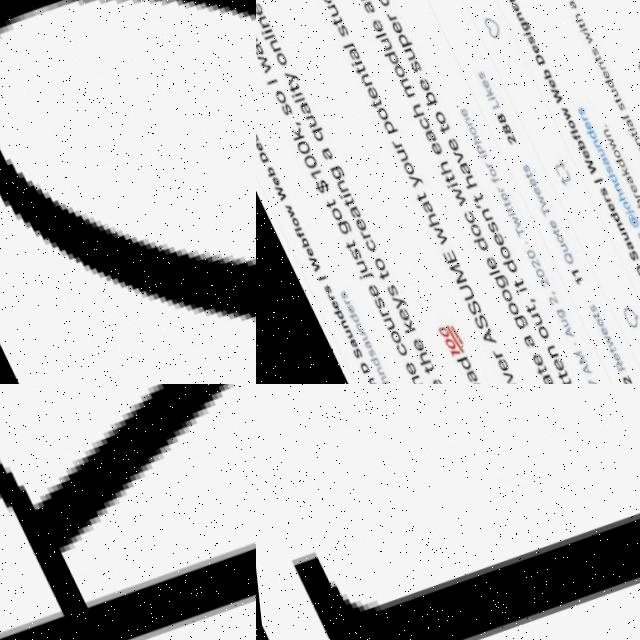3: (572, 374, 584, 384)
4: (492, 120, 504, 133), (487, 110, 499, 123)
A: (466, 326, 485, 345), (450, 366, 465, 382), (340, 46, 356, 61), (337, 204, 352, 219), (310, 146, 325, 161), (411, 198, 426, 213), (509, 331, 524, 346), (526, 370, 542, 384), (355, 0, 371, 14), (290, 101, 304, 115), (416, 127, 429, 141), (449, 160, 462, 174), (566, 360, 578, 374), (549, 324, 561, 336), (335, 337, 345, 348), (615, 171, 626, 181), (618, 115, 627, 126), (350, 339, 359, 349), (592, 153, 601, 163), (615, 237, 623, 247), (563, 0, 571, 6)
B: (413, 88, 430, 105), (288, 236, 300, 249), (566, 135, 578, 148), (256, 165, 266, 178), (534, 67, 545, 77), (625, 195, 636, 205)
C: (381, 340, 396, 355), (353, 236, 366, 252), (453, 208, 466, 222), (410, 115, 423, 129)
D: (376, 49, 394, 66), (442, 354, 459, 371), (462, 234, 479, 251), (490, 256, 507, 272), (344, 360, 357, 374), (623, 260, 636, 274), (320, 308, 332, 321), (599, 208, 611, 220), (596, 75, 608, 87), (527, 50, 539, 62), (367, 0, 385, 7), (598, 170, 609, 181), (578, 126, 589, 137), (356, 356, 367, 366), (606, 155, 617, 165), (336, 313, 347, 323), (311, 0, 329, 5), (256, 150, 260, 162)
E: (384, 305, 399, 322), (390, 359, 405, 375), (364, 17, 380, 32), (431, 247, 446, 263), (517, 349, 532, 365), (398, 336, 413, 351), (342, 216, 357, 231), (437, 135, 452, 150), (410, 76, 425, 91), (358, 84, 372, 99), (481, 230, 495, 244), (384, 19, 398, 33), (356, 283, 369, 297), (483, 355, 496, 369), (422, 140, 435, 154), (539, 355, 552, 369), (474, 254, 487, 268), (539, 75, 551, 88), (523, 40, 535, 53), (293, 246, 305, 258), (416, 376, 431, 384), (261, 176, 271, 187), (572, 145, 582, 156), (574, 117, 584, 128), (628, 141, 639, 151), (318, 298, 327, 310), (597, 198, 606, 210), (333, 303, 342, 314), (599, 348, 608, 359), (523, 184, 532, 195), (451, 106, 460, 116), (587, 323, 596, 333), (583, 315, 592, 325), (538, 217, 547, 227), (519, 175, 528, 185), (474, 77, 483, 87), (620, 180, 629, 190), (595, 66, 604, 76), (505, 0, 514, 9), (490, 190, 498, 199), (457, 379, 470, 384), (494, 380, 507, 384), (635, 213, 640, 223), (635, 66, 640, 76)
F: (284, 228, 295, 239), (480, 173, 491, 182), (562, 129, 573, 137), (630, 207, 640, 215)
G: (325, 218, 343, 235), (481, 271, 499, 288), (320, 164, 337, 181), (500, 311, 517, 328), (514, 17, 525, 30), (544, 306, 555, 316), (634, 247, 640, 257)
H: (413, 210, 430, 227), (427, 158, 444, 175), (400, 101, 417, 118), (451, 171, 468, 188), (401, 349, 418, 365), (567, 9, 578, 20), (462, 133, 473, 144), (364, 374, 375, 384), (606, 189, 617, 199), (635, 285, 640, 296)
I: (284, 507, 640, 640), (436, 179, 450, 188), (282, 90, 296, 98), (329, 191, 342, 199), (503, 284, 516, 292), (258, 78, 271, 85), (256, 27, 267, 35), (344, 59, 355, 67), (496, 209, 506, 216), (470, 151, 480, 157), (479, 94, 489, 100), (516, 29, 526, 35), (618, 123, 628, 129), (573, 24, 582, 30), (548, 382, 561, 384), (636, 221, 640, 227)
J: (347, 271, 363, 281), (614, 206, 625, 212)
K: (386, 317, 404, 334), (279, 124, 297, 140), (476, 85, 486, 96), (610, 163, 621, 173)
L: (285, 96, 298, 104), (256, 32, 269, 40), (336, 41, 349, 49), (482, 98, 492, 108), (369, 31, 380, 38), (478, 267, 488, 274), (283, 226, 292, 233), (561, 126, 571, 132), (613, 111, 622, 116)
M: (437, 260, 456, 284), (392, 75, 408, 97), (561, 347, 574, 362)
N: (260, 38, 276, 53), (351, 72, 367, 87), (469, 204, 484, 220), (326, 178, 339, 193), (533, 342, 546, 356), (396, 372, 409, 384), (327, 319, 337, 330), (603, 179, 613, 190), (591, 57, 600, 68), (256, 14, 263, 28), (362, 365, 371, 375), (342, 322, 351, 332), (606, 219, 615, 229), (510, 9, 519, 19), (584, 136, 593, 146), (625, 133, 634, 143), (352, 376, 362, 384), (632, 276, 640, 286), (595, 125, 603, 135), (456, 115, 464, 124)
O: (375, 327, 391, 345), (493, 297, 509, 315), (522, 321, 538, 339), (457, 220, 473, 237), (360, 255, 376, 271), (320, 205, 334, 222), (386, 61, 399, 78), (487, 242, 500, 259), (266, 89, 279, 105), (369, 105, 382, 121), (393, 159, 406, 174), (268, 52, 281, 66), (489, 286, 502, 300), (426, 109, 439, 123), (280, 216, 290, 227), (558, 116, 568, 127), (604, 145, 613, 156), (479, 166, 488, 176), (460, 124, 469, 134), (545, 231, 554, 241), (626, 228, 635, 238), (612, 197, 621, 207), (636, 156, 640, 165)
P: (389, 31, 407, 47), (375, 118, 390, 134), (466, 141, 478, 154)
Q: (0, 0, 256, 384), (302, 125, 319, 142), (550, 248, 565, 263)
R: (0, 384, 256, 640), (601, 357, 613, 369), (478, 346, 491, 357), (366, 306, 377, 316), (349, 229, 360, 239), (383, 138, 394, 148), (381, 10, 392, 20), (315, 292, 323, 299), (331, 297, 339, 304), (476, 159, 483, 166), (594, 192, 601, 199), (573, 112, 580, 119), (624, 188, 631, 195), (488, 184, 494, 190)
S: (460, 311, 477, 329), (453, 297, 470, 314), (337, 246, 352, 262), (271, 101, 286, 117), (373, 281, 388, 297), (474, 216, 489, 232), (360, 294, 375, 309), (330, 23, 344, 37), (402, 58, 416, 72), (617, 245, 629, 258), (338, 346, 350, 358), (353, 347, 364, 358), (469, 68, 480, 79), (311, 283, 321, 294), (520, 33, 531, 43), (584, 43, 593, 54), (327, 290, 336, 300), (577, 301, 586, 311), (513, 161, 522, 171), (590, 184, 599, 194), (569, 103, 578, 113), (596, 161, 604, 172), (609, 98, 618, 107)
T: (333, 238, 348, 250), (365, 269, 380, 281), (333, 196, 346, 208), (405, 190, 418, 202), (347, 63, 360, 75), (543, 367, 556, 379), (513, 301, 526, 313), (462, 191, 475, 203), (430, 121, 443, 133), (504, 225, 516, 237), (315, 198, 328, 209), (409, 363, 422, 374), (363, 97, 376, 108), (325, 15, 338, 26), (522, 363, 535, 374), (434, 171, 447, 182), (281, 83, 293, 94), (501, 276, 513, 286), (546, 375, 559, 384), (530, 204, 541, 214), (594, 342, 604, 351), (605, 93, 615, 102), (492, 198, 502, 206), (540, 225, 550, 233), (514, 169, 524, 177), (629, 237, 639, 245), (571, 18, 581, 26), (495, 204, 504, 212), (579, 308, 588, 316), (631, 149, 640, 157), (587, 52, 597, 59), (622, 127, 631, 134)
U: (446, 281, 464, 300), (295, 113, 311, 129), (343, 258, 358, 274), (369, 315, 384, 330), (517, 310, 531, 324), (387, 147, 400, 162), (321, 2, 334, 17), (397, 45, 410, 60), (374, 36, 387, 50), (603, 84, 612, 95), (332, 328, 341, 338), (346, 330, 355, 340), (610, 228, 619, 238), (588, 145, 597, 155), (548, 316, 557, 325), (549, 240, 557, 250)
V: (488, 368, 501, 382), (444, 148, 457, 162)
W: (422, 224, 439, 244), (442, 185, 458, 205), (574, 154, 589, 172), (542, 84, 557, 102), (296, 254, 310, 272), (264, 184, 278, 202), (256, 53, 265, 73), (274, 204, 286, 217), (527, 192, 538, 206), (590, 331, 601, 344), (553, 104, 564, 117), (598, 134, 609, 147), (501, 213, 511, 226), (577, 29, 587, 40)
Y: (379, 292, 396, 309), (276, 68, 293, 85), (399, 171, 415, 186)
